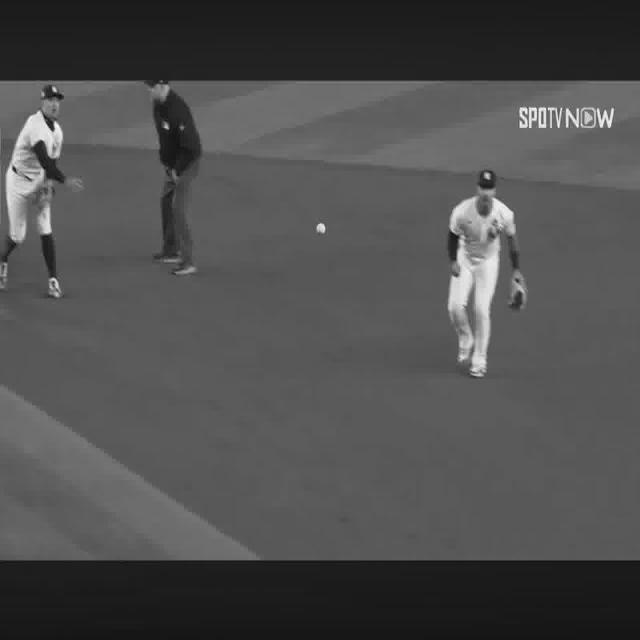baseball: (316, 223, 325, 235)
baseball_glove: (509, 268, 528, 310), (32, 180, 55, 207)
shoe: (152, 247, 179, 265), (456, 340, 472, 365), (171, 261, 196, 277), (469, 363, 491, 378), (48, 278, 64, 298)
